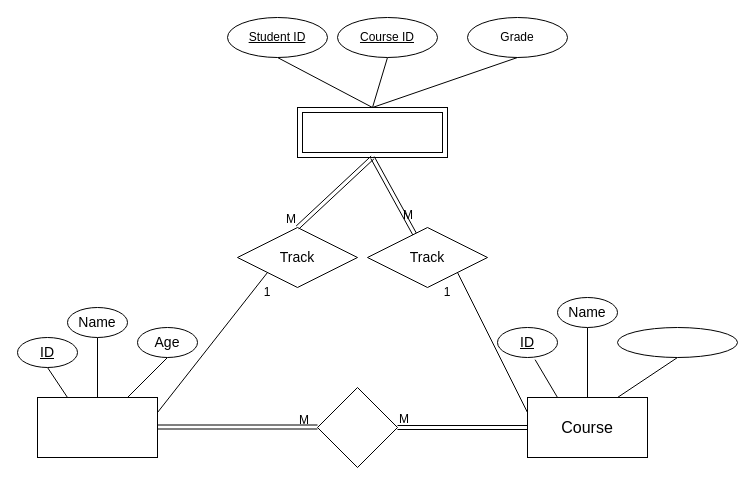
Some shapes in this 755 by 485 pixel diagram are drawn without their labels. Each missing label, with the centre of its shape:
"Credit hours" belongs at [677,342].
"Enroll" belongs at [357,427].
"Enrollment Records" belongs at [372,132].
"Student" belongs at [97,427].
